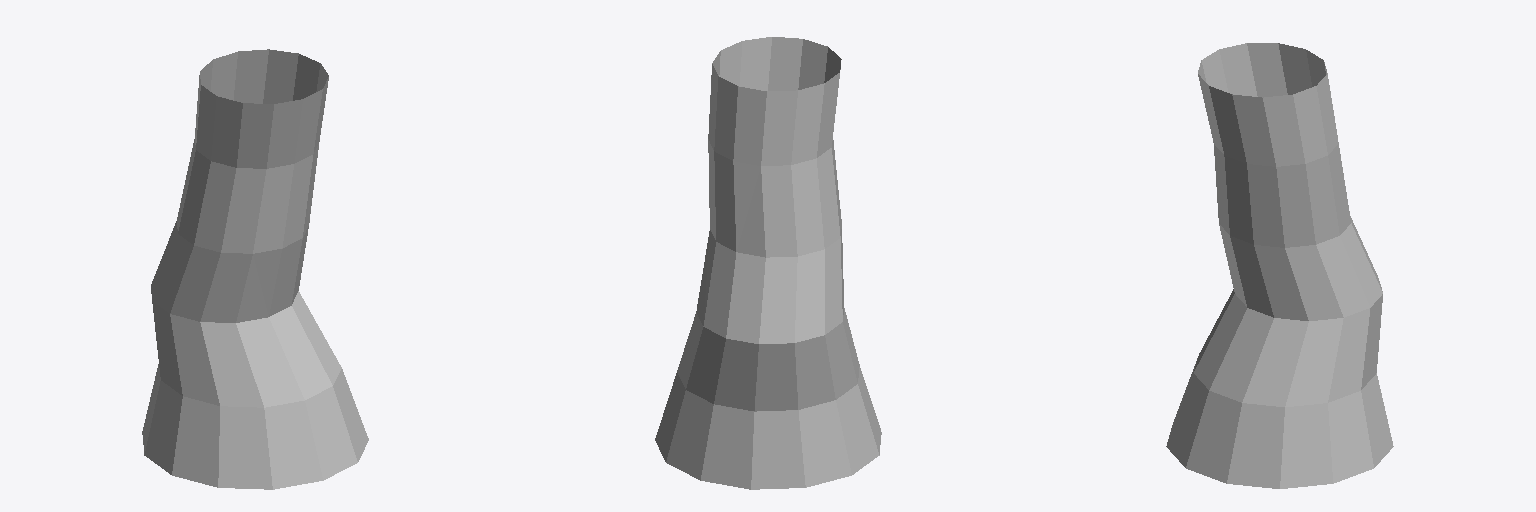
The model's file is shroomBot3.obj.
3 renders of one model, left to right at view 1: azimuth 30°, elevation 25°; view 2: azimuth 150°, elevation 25°; view 3: azimuth 270°, elevation 25°, orthographic.
Parts seen in each view (by area): view 1: shroomBot3; view 2: shroomBot3; view 3: shroomBot3.
Part boxes in pixels (bbox=[...]): shroomBot3: bbox=[142, 49, 368, 489]; shroomBot3: bbox=[655, 37, 881, 489]; shroomBot3: bbox=[1166, 43, 1393, 488].
Size of the model in its own units: 11.53 by 20.9 by 11.61.